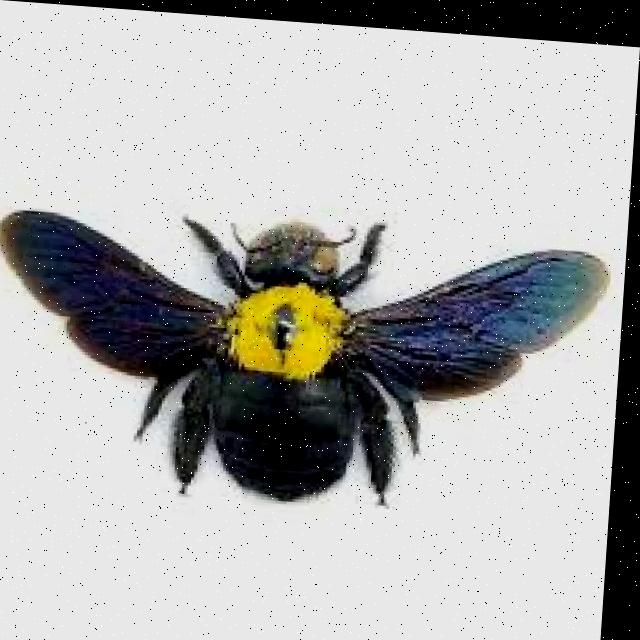Xylocopa: (0, 175, 610, 515)
